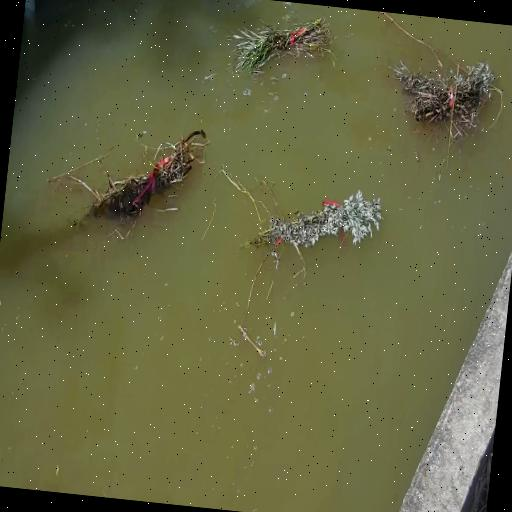twig: (234, 168, 385, 280), (86, 111, 200, 233), (230, 0, 332, 88), (382, 58, 486, 132)
